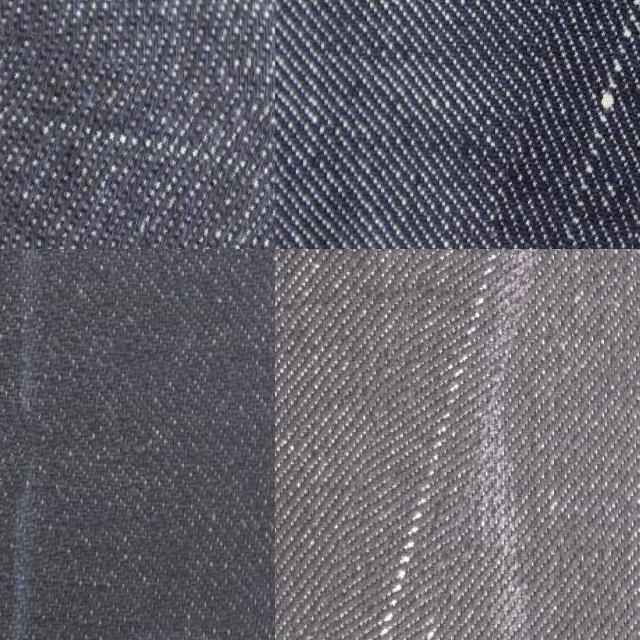Thread_other: (321, 249, 516, 640), (0, 16, 275, 249), (526, 0, 640, 249)
